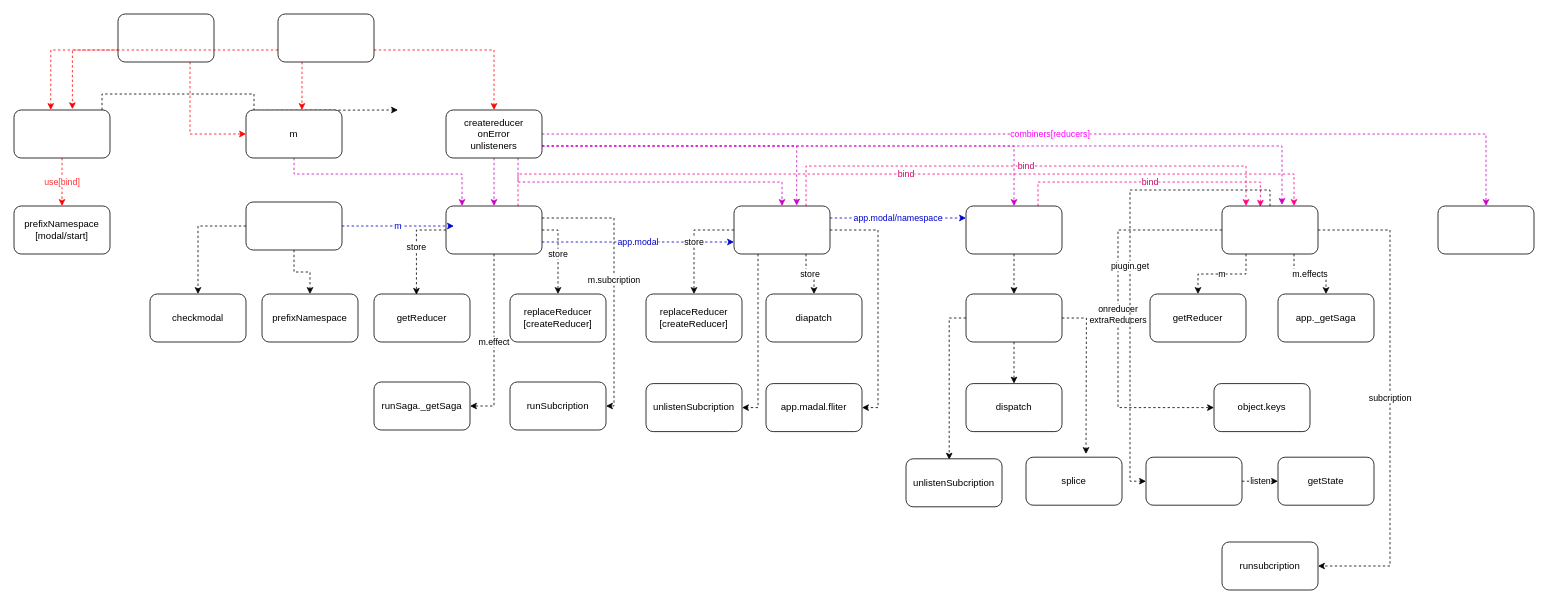
This 1548x604 diagram has some shape labels left out. Each missing label, with the centre of its shape:
"createOpts" belongs at [325,37].
"createReducer" belongs at [1485,229].
"findIndex [oldModalIdx]" belongs at [1013,317].
"hookAndOpts" belongs at [165,37].
"injectModal" belongs at [493,229].
"Modal" belongs at [293,225].
"plugin" belongs at [61,133].
"replaceModal" belongs at [1013,229].
"start" belongs at [1269,229].
"subscribe" belongs at [1193,480].
"unModal" belongs at [781,229].
